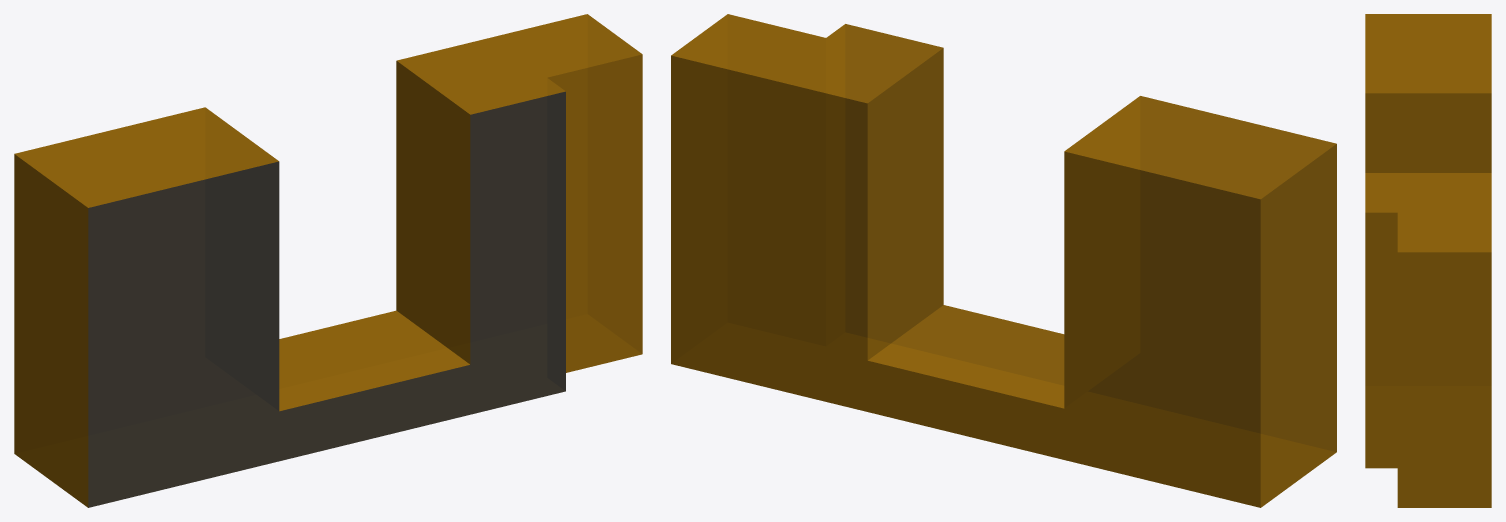
The picture shows the model from 3 angles, left to right: view 1: azimuth 30°, elevation 25°; view 2: azimuth 150°, elevation 25°; view 3: azimuth 270°, elevation 25°; orthographic projection. The views are drawn at different scales.
Parts seen in each view (by area): view 1: group_0 (×2); view 2: group_0; view 3: group_0.
Part boxes in pixels (left/top/right/bottom): group_0 (×2): left=14, top=14, right=642, bottom=507; group_0: left=671, top=14, right=1336, bottom=507; group_0: left=1365, top=14, right=1491, bottom=507.
Size of the model in its own units: 2362 by 528 by 1181.
